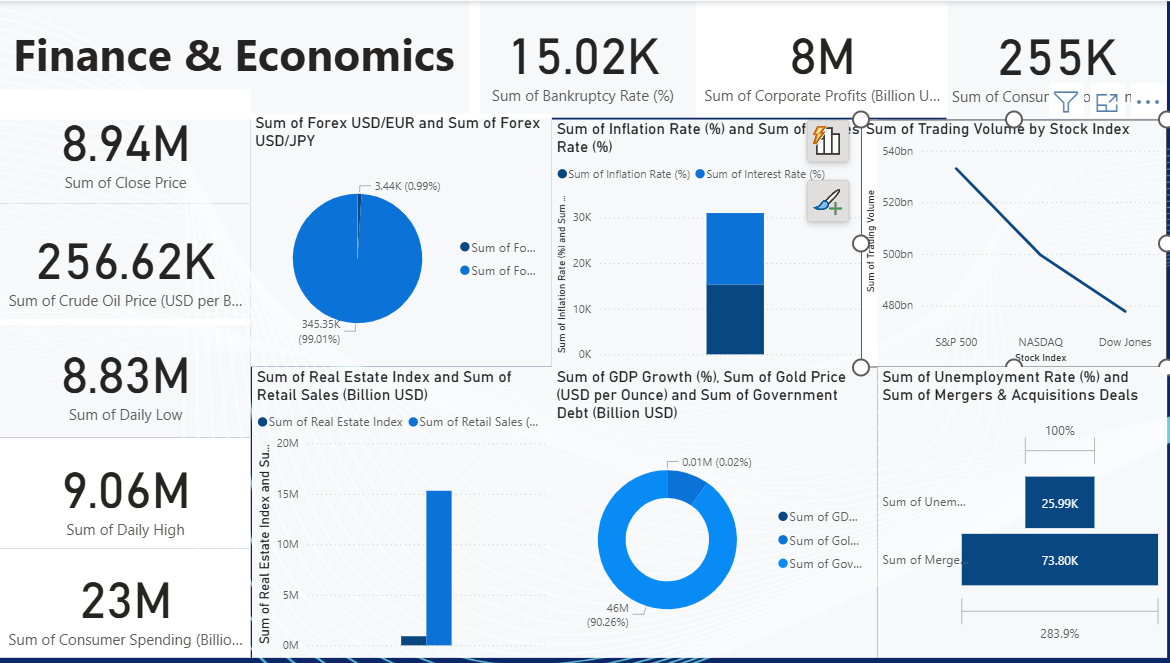

The page's visual inventory and layout, read from the dashboard file:
{"tool":"powerbi","page":{"name":"Page 1","canvas":[1280,720],"ordinal":0},"visuals":[{"type":"card","fields":{"Values":["Sum(finance_economics_dataset.Bankruptcy Rate (%))"]},"box":[516.5,0,244.5,126.3],"z":0},{"type":"card","fields":{"Values":["Sum(finance_economics_dataset.Close Price)"]},"box":[9.7,95.5,270.4,123.1],"z":1},{"type":"card","fields":{"Values":["Sum(finance_economics_dataset.Consumer Confidence Index)"]},"box":[1031.4,0,238,127.9],"z":2},{"type":"card","fields":{"Values":["Sum(finance_economics_dataset.Consumer Spending (Billion USD))"]},"box":[9.7,591,270.4,118.2],"z":3},{"type":"card","fields":{"Values":["Sum(finance_economics_dataset.Corporate Profits (Billion USD))"]},"box":[761,0,272,126.3],"z":4},{"type":"card","fields":{"Values":["Sum(finance_economics_dataset.Crude Oil Price (USD per Barrel))"]},"box":[9.7,218.6,270.4,131.2],"z":5},{"type":"card","fields":{"Values":["Sum(finance_economics_dataset.Daily High)"]},"box":[9.7,471.2,270.4,119.8],"z":6},{"type":"card","fields":{"Values":["Sum(finance_economics_dataset.Daily Low)"]},"box":[9.7,343.3,270.4,127.9],"z":7},{"type":"textbox","box":[9.7,0,518.2,127.9],"z":8},{"type":"pieChart","fields":{"Y":["Sum(finance_economics_dataset.Forex USD/EUR)","Sum(finance_economics_dataset.Forex USD/JPY)"]},"box":[280.1,121.4,325.5,273.6],"z":9},{"type":"donutChart","fields":{"Y":["Sum(finance_economics_dataset.GDP Growth (%))","Sum(finance_economics_dataset.Gold Price (USD per Ounce))","Sum(finance_economics_dataset.Government Debt (Billion USD))"]},"box":[605.6,395.1,351.4,314.1],"z":10},{"type":"columnChart","fields":{"Y":["Sum(finance_economics_dataset.Inflation Rate (%))","Sum(finance_economics_dataset.Interest Rate (%))"]},"box":[605.6,127.9,351.4,267.2],"z":11},{"type":"clusteredColumnChart","fields":{"Y":["Sum(finance_economics_dataset.Real Estate Index)","Sum(finance_economics_dataset.Retail Sales (Billion USD))"]},"box":[281.7,395.1,323.8,314.1],"z":12},{"type":"lineChart","fields":{"Category":["finance_economics_dataset.Stock Index"],"Y":["Sum(finance_economics_dataset.Trading Volume)"]},"box":[939.2,127.9,330.3,267.2],"z":13},{"type":"funnel","fields":{"Y":["Sum(finance_economics_dataset.Unemployment Rate (%))","Sum(finance_economics_dataset.Mergers & Acquisitions Deals)"]},"box":[957,395.1,312.5,314.1],"z":14}]}

Visuals, with their boxes on the page's 1280x720 design canvas (x1, y1, x2, y2). These are canvas units, not pixel positions in the 1170x663 screenshot, which may show the page scaled, cropped or inside an application window:
card - Sum(finance_economics_dataset.Bankruptcy Rate (%)): [516, 0, 761, 126]
card - Sum(finance_economics_dataset.Close Price): [10, 96, 280, 219]
card - Sum(finance_economics_dataset.Consumer Confidence Index): [1031, 0, 1269, 128]
card - Sum(finance_economics_dataset.Consumer Spending (Billion USD)): [10, 591, 280, 709]
card - Sum(finance_economics_dataset.Corporate Profits (Billion USD)): [761, 0, 1033, 126]
card - Sum(finance_economics_dataset.Crude Oil Price (USD per Barrel)): [10, 219, 280, 350]
card - Sum(finance_economics_dataset.Daily High): [10, 471, 280, 591]
card - Sum(finance_economics_dataset.Daily Low): [10, 343, 280, 471]
textbox: [10, 0, 528, 128]
pieChart - Sum(finance_economics_dataset.Forex USD/EUR) x Sum(finance_economics_dataset.Forex USD/JPY): [280, 121, 606, 395]
donutChart - Sum(finance_economics_dataset.GDP Growth (%)) x Sum(finance_economics_dataset.Gold Price (USD per Ounce)): [606, 395, 957, 709]
columnChart - Sum(finance_economics_dataset.Inflation Rate (%)) x Sum(finance_economics_dataset.Interest Rate (%)): [606, 128, 957, 395]
clusteredColumnChart - Sum(finance_economics_dataset.Real Estate Index) x Sum(finance_economics_dataset.Retail Sales (Billion USD)): [282, 395, 606, 709]
lineChart - finance_economics_dataset.Stock Index x Sum(finance_economics_dataset.Trading Volume): [939, 128, 1270, 395]
funnel - Sum(finance_economics_dataset.Unemployment Rate (%)) x Sum(finance_economics_dataset.Mergers & Acquisitions Deals): [957, 395, 1270, 709]
